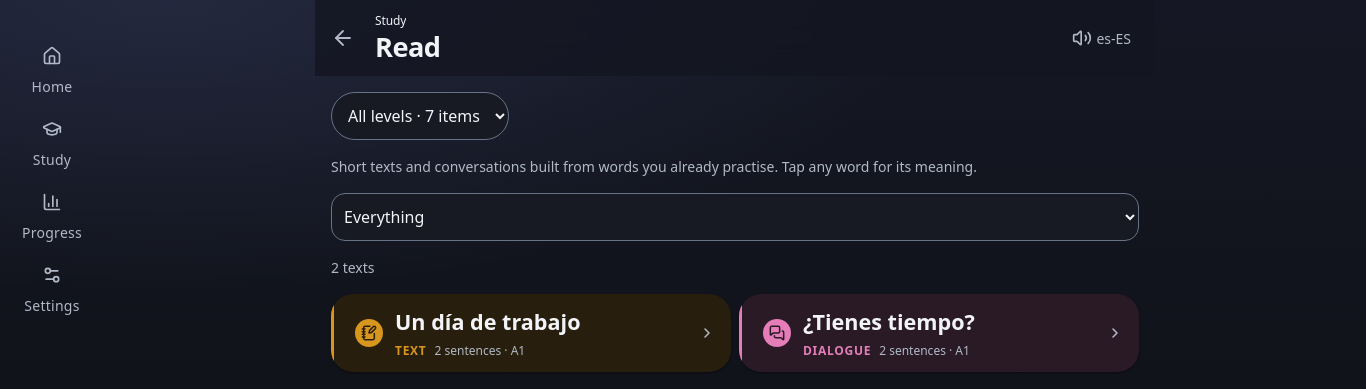
Test: reading list › separates dialogues from texts
The width and height of the screenshot is (1366, 389).
Expected: the text "2 texts" is shown, [331, 258, 374, 277]
Select "Dialogues" in the 2nd dropdown named "Kind" at [735, 217], box [331, 193, 1139, 241]
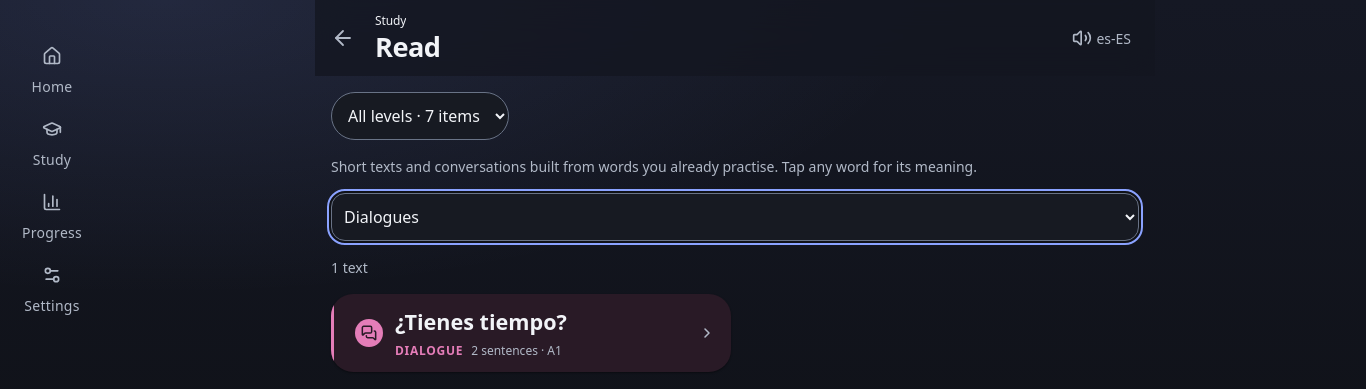
Now the text "1 text" is shown, box [331, 258, 368, 277]
Now the link "Un día de trabajo" is gone
